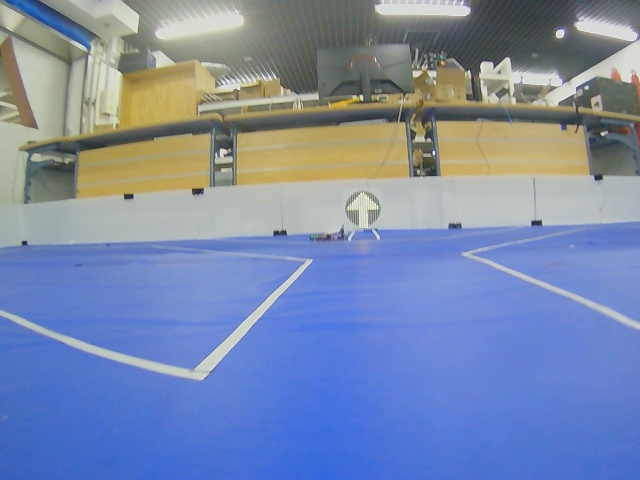straight_yellow: (346, 191, 381, 228)
